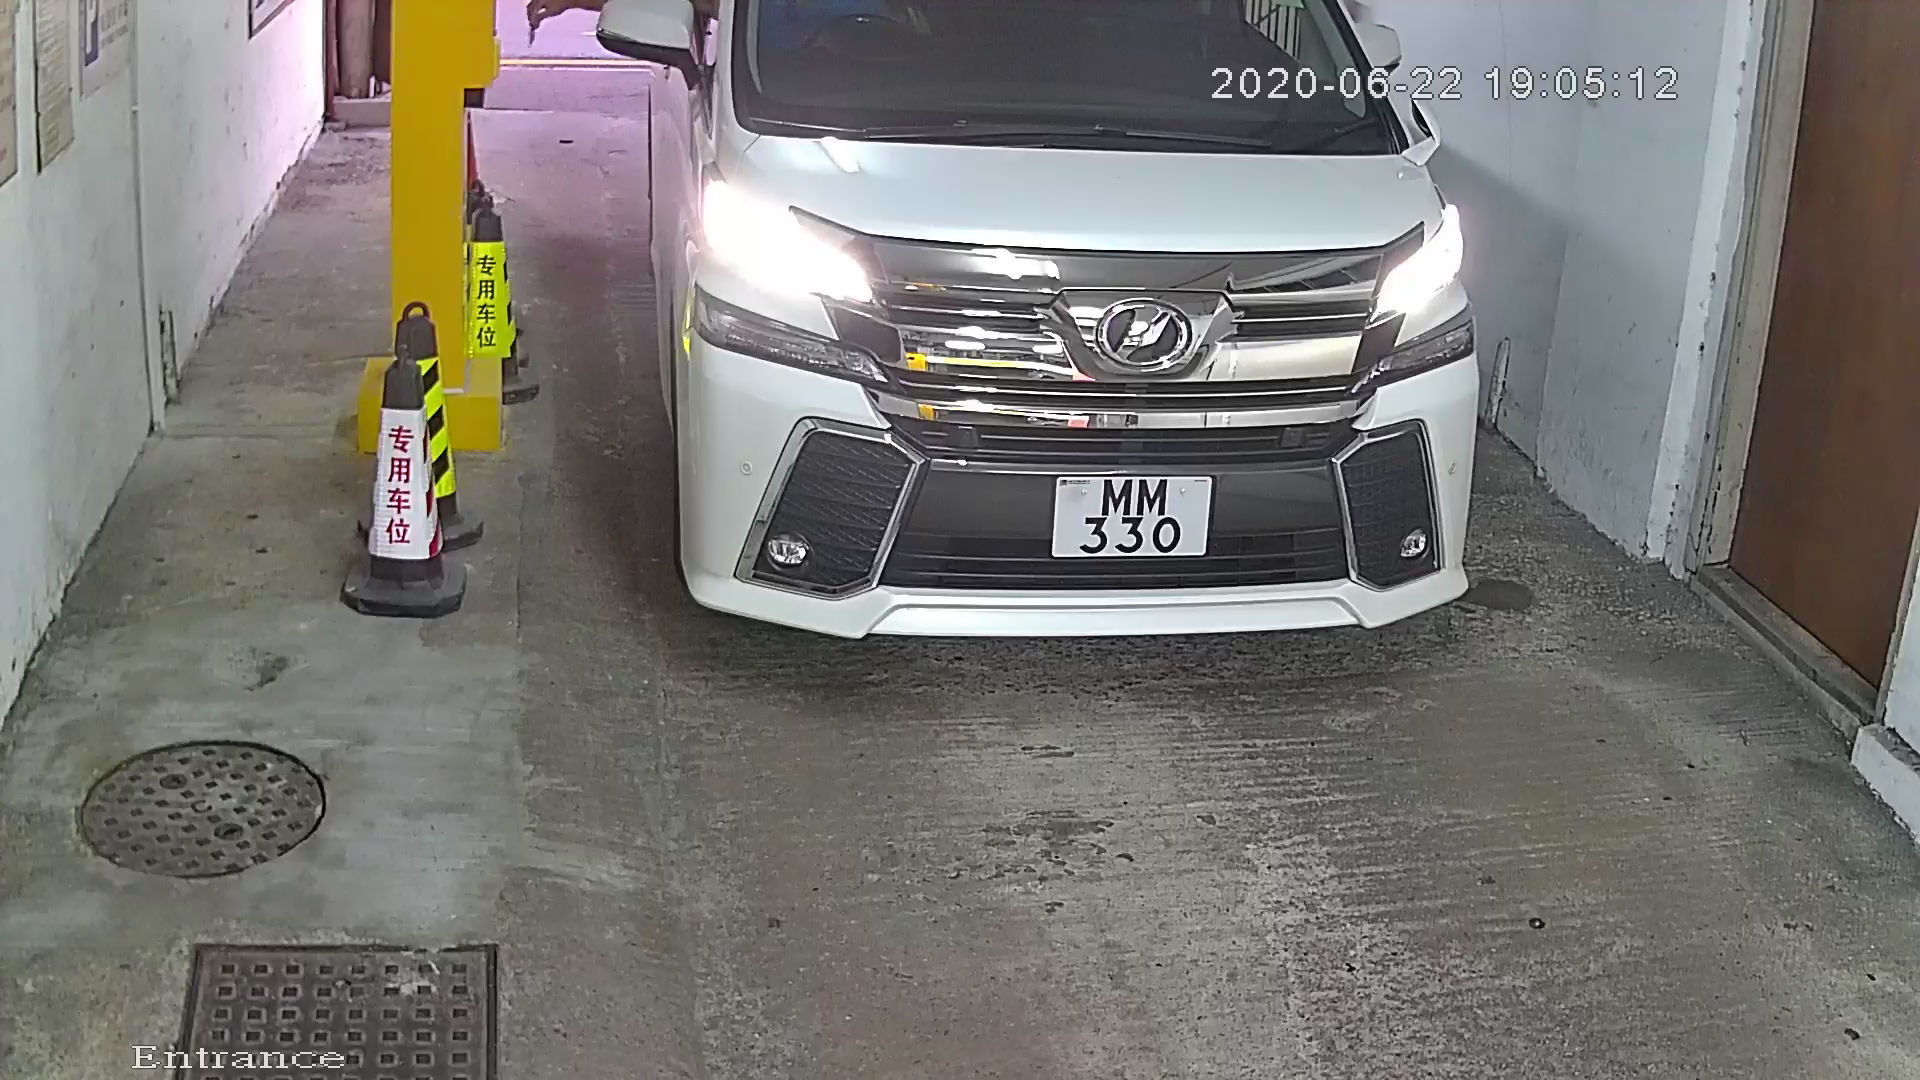privatecar: (566, 3, 1573, 740)
